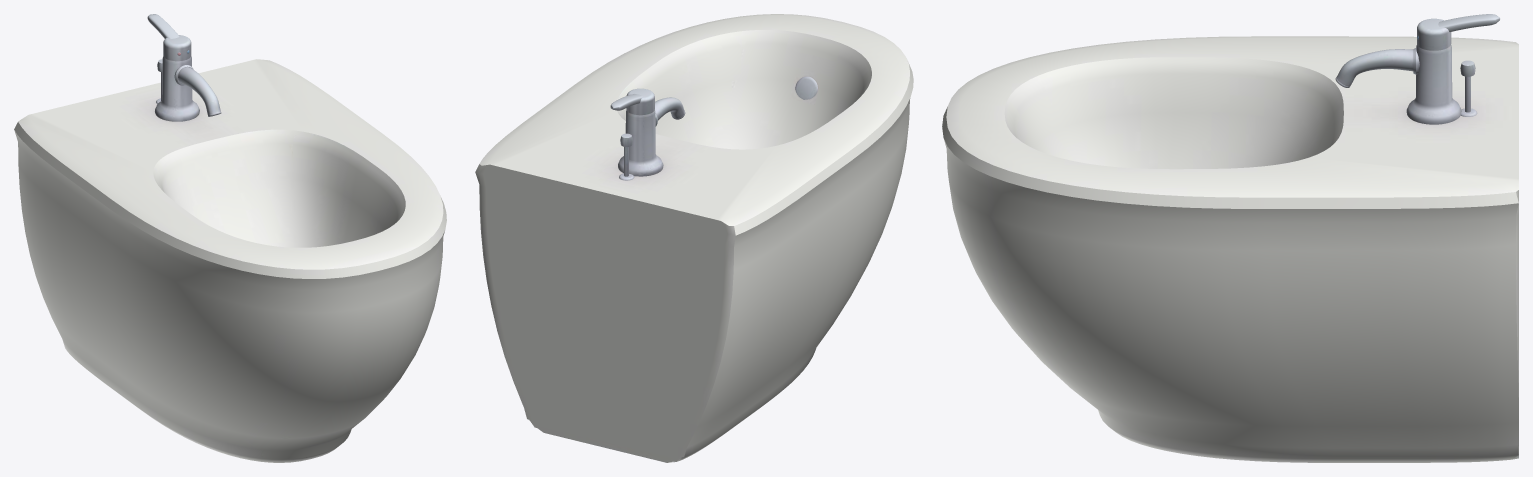
Rendered from bide.glb.
The picture shows the model from 3 angles, left to right: view 1: azimuth 30°, elevation 25°; view 2: azimuth 150°, elevation 25°; view 3: azimuth 270°, elevation 25°; orthographic projection. The views are drawn at different scales.
Parts seen in each view (by area): view 1: bidet_body; view 2: bidet_body; view 3: bidet_body.
Boxes of the visible parts, x1,y1,x2,y2 form: bidet_body: (14, 14, 446, 462); bidet_body: (475, 14, 913, 462); bidet_body: (942, 14, 1518, 462).
Size of the model in its own units: 0.368 by 0.4212 by 0.544.
2 materials, 2 textured.
